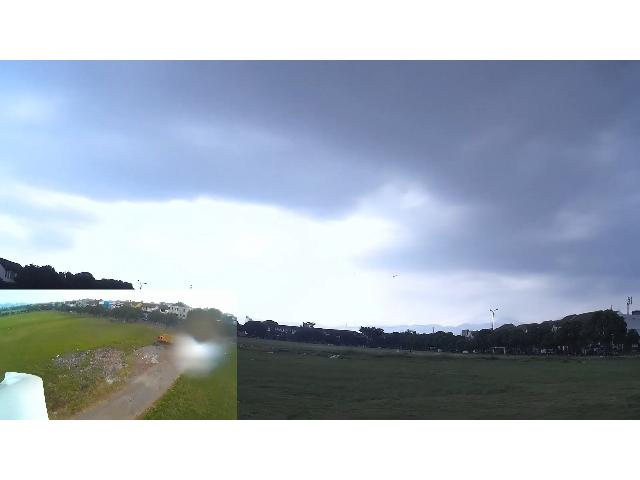Anti-Drone: (390, 269, 408, 286)
